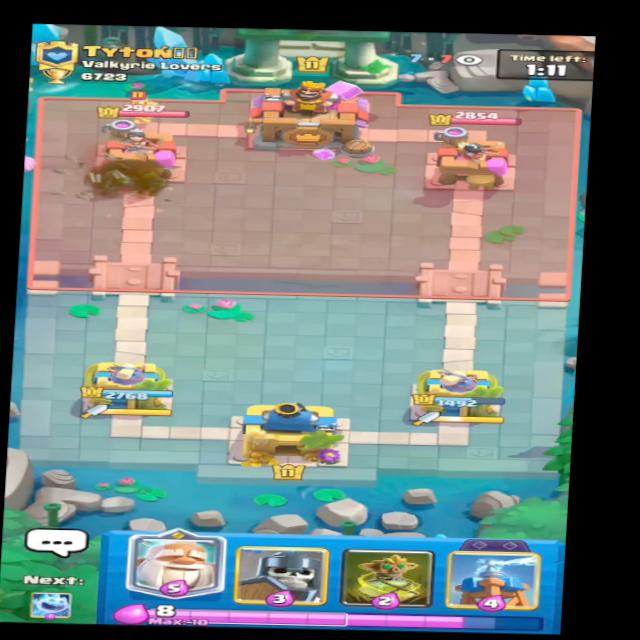wizard: (107, 82, 174, 123)
